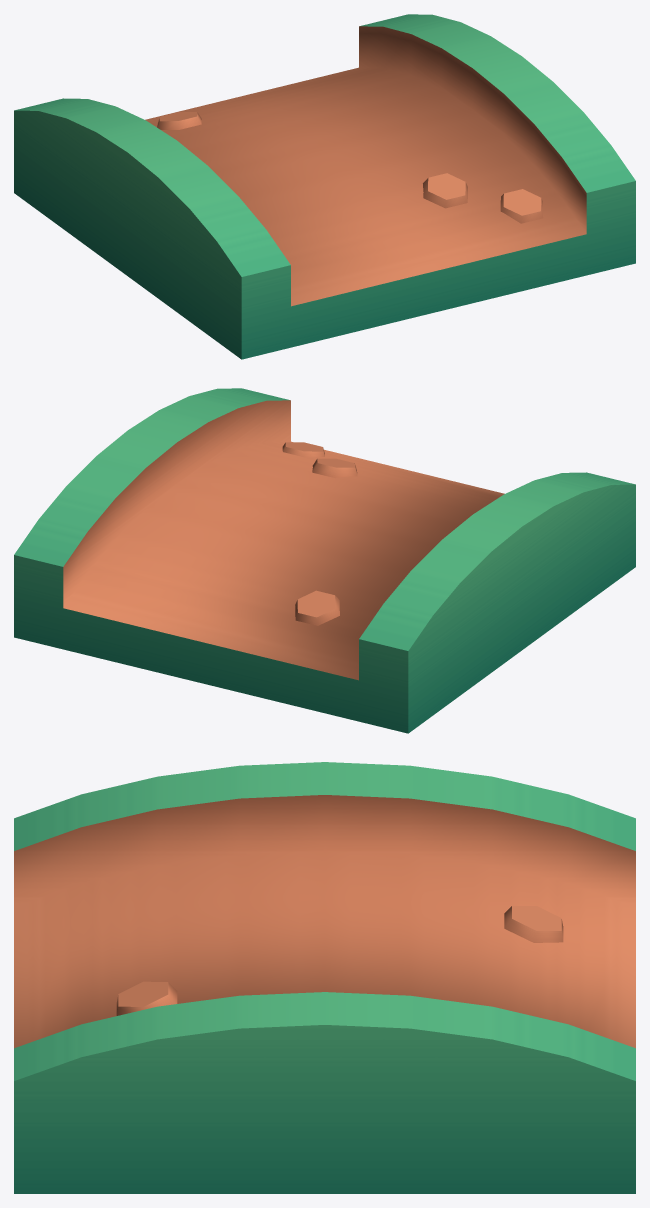
File: tile-bump.fbx
The picture shows the model from 3 angles, top to bottom: view 1: azimuth 30°, elevation 25°; view 2: azimuth 150°, elevation 25°; view 3: azimuth 270°, elevation 25°; orthographic projection. The views are drawn at different scales.
Parts seen in each view (by area): view 1: tile-bump; view 2: tile-bump; view 3: tile-bump.
Boxes of the visible parts, box(x1,y1,x2,y2) form: tile-bump: box(14, 14, 635, 359); tile-bump: box(14, 388, 635, 733); tile-bump: box(14, 762, 635, 1193).
Bounding box in the file's own units: 100 × 30 × 100.
